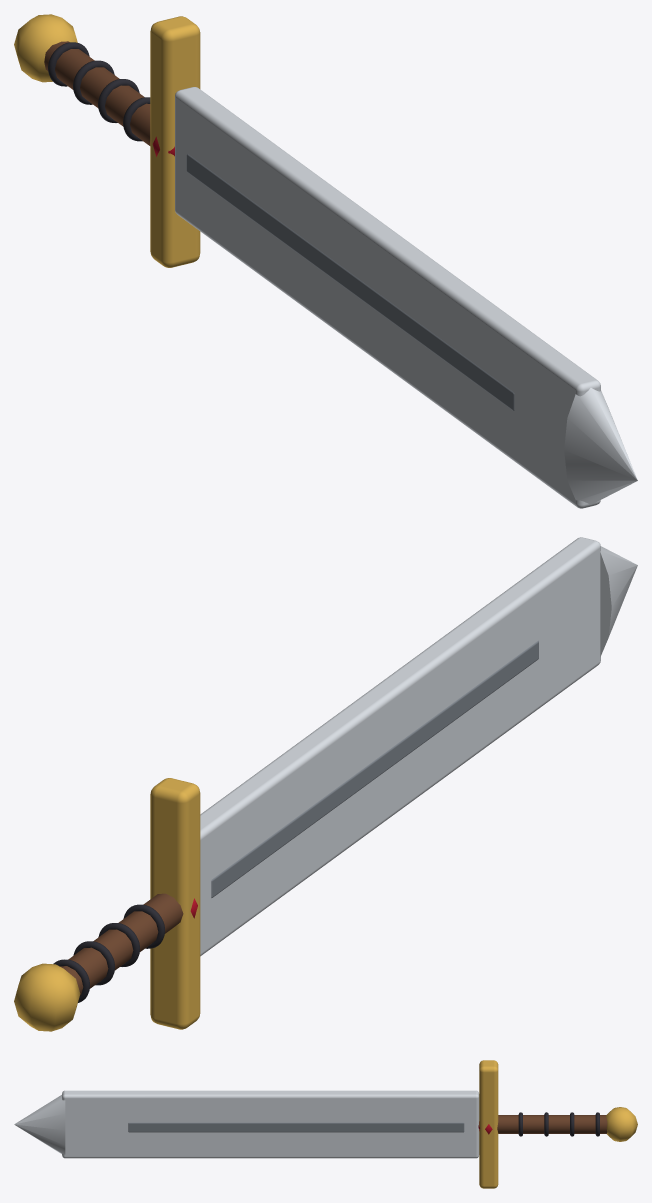
The model's file is kid-sword.glb.
3 renders of one model, top to bottom at view 1: azimuth 30°, elevation 25°; view 2: azimuth 150°, elevation 25°; view 3: azimuth 270°, elevation 25°, orthographic. The views are drawn at different scales.
Parts seen in each view (by area): view 1: kid-sword; view 2: kid-sword; view 3: kid-sword.
Part boxes in pixels (<box>): kid-sword: <box>14,14,637,508</box>; kid-sword: <box>14,537,637,1031</box>; kid-sword: <box>14,1060,637,1188</box>.
Size of the model in its own units: 0.11 by 0.42 by 1.95.
